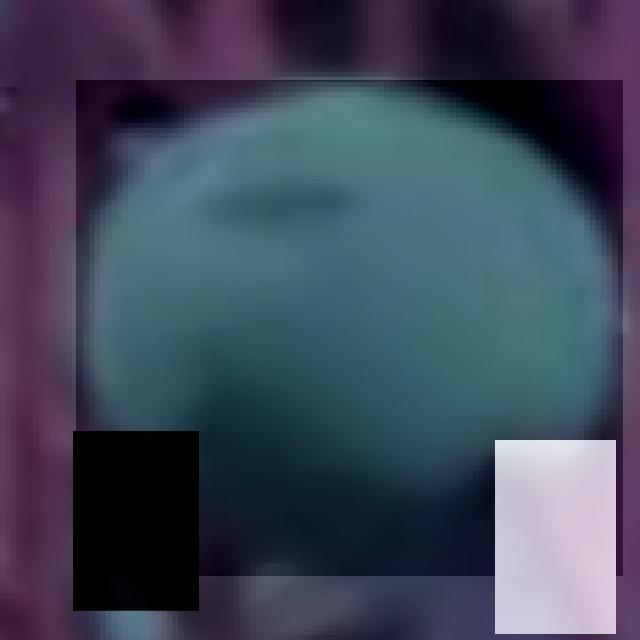Algae: (76, 80, 623, 576)
Reef: (495, 440, 616, 634), (73, 432, 199, 612)
